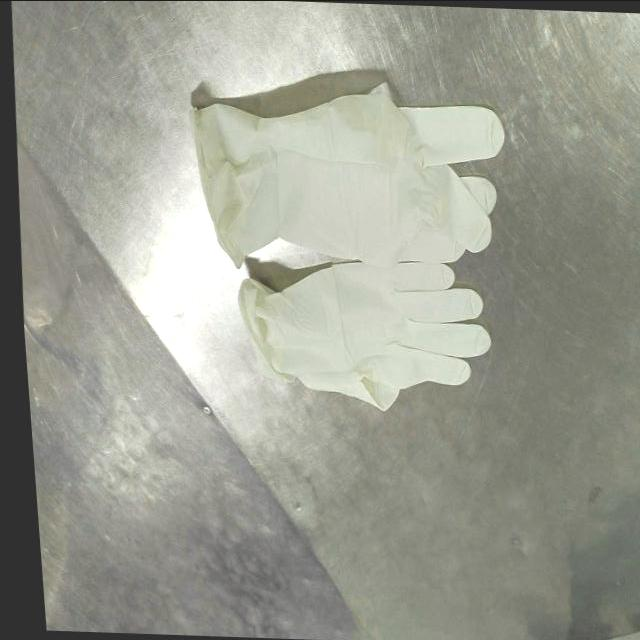Infectious: (188, 74, 505, 269), (236, 258, 491, 410)
